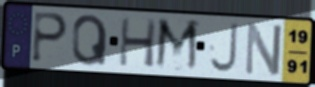H: (117, 16, 159, 70)
J: (208, 21, 240, 75)
M: (153, 16, 202, 75)
N: (242, 20, 285, 78)
P: (30, 10, 70, 65)
Q: (71, 13, 109, 68)
